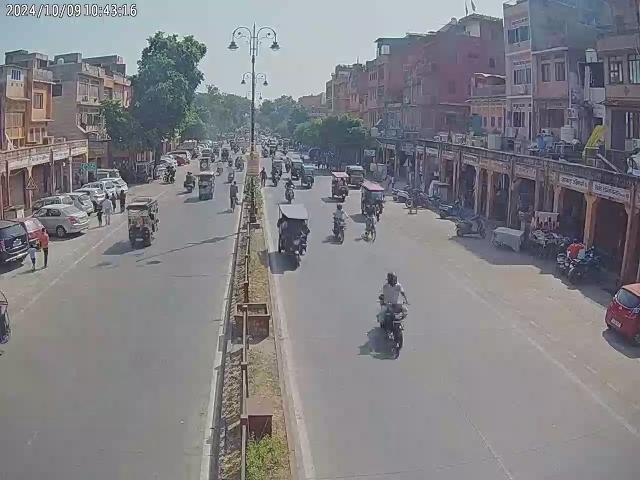auto: (276, 206, 310, 266), (126, 198, 160, 248), (360, 179, 384, 213), (330, 172, 350, 200), (195, 172, 215, 200), (298, 167, 314, 188)
bicycle-rider: (362, 200, 377, 243), (228, 180, 240, 214)
car: (604, 272, 640, 348), (31, 203, 90, 239), (0, 216, 30, 267), (99, 175, 128, 195)
motorbike: (564, 252, 603, 284)
motorbike-rider: (374, 271, 411, 357), (330, 204, 348, 243), (284, 177, 296, 204), (162, 164, 176, 184)
person: (37, 225, 49, 268), (102, 192, 114, 228), (26, 244, 40, 270), (119, 189, 128, 213)
scooty: (455, 214, 484, 239), (556, 236, 571, 272), (438, 199, 466, 218)
